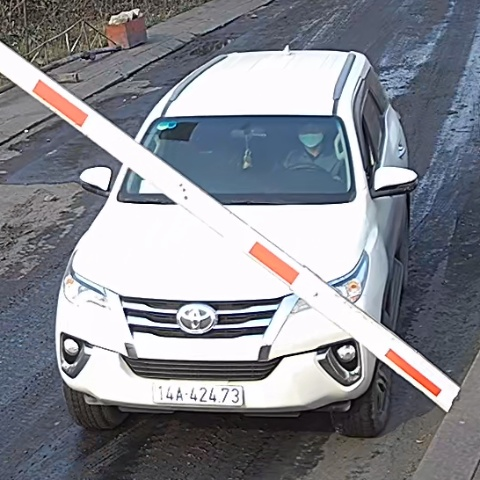vehicle plate: (149, 376, 247, 409)
